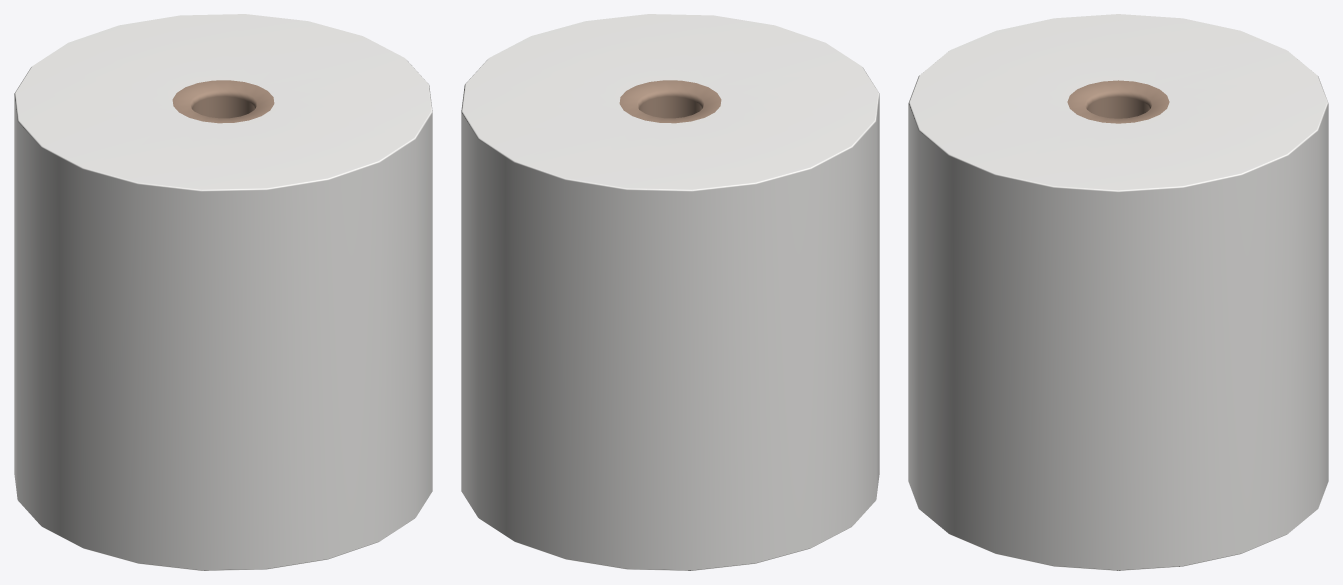
File: Toilet_Paper_4.glb
3 renders of one model, left to right at view 1: azimuth 30°, elevation 25°; view 2: azimuth 150°, elevation 25°; view 3: azimuth 270°, elevation 25°, orthographic.
Visible parts, largest first — view 1: Toilet_Paper_4; view 2: Toilet_Paper_4; view 3: Toilet_Paper_4.
Part boxes in pixels (left/top/right/bottom): Toilet_Paper_4: left=14, top=14, right=432, bottom=570; Toilet_Paper_4: left=461, top=14, right=879, bottom=570; Toilet_Paper_4: left=908, top=14, right=1328, bottom=570.
Size of the model in its own units: 0.1987 by 0.1987 by 0.1987.
1 material, 1 textured.
